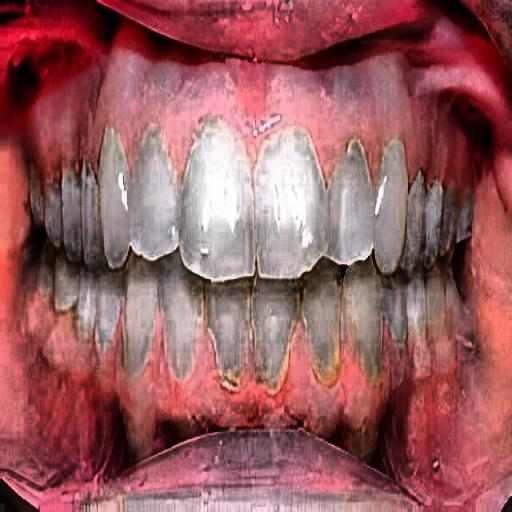Healthy: (111, 116, 456, 320)
